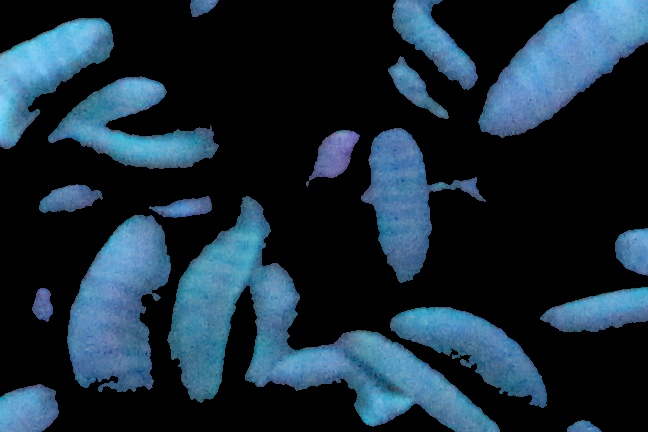larvae: (477, 1, 648, 136), (169, 210, 269, 401), (64, 217, 170, 393), (392, 299, 546, 406), (340, 333, 501, 432), (1, 16, 116, 150), (368, 129, 432, 282), (48, 79, 166, 147), (391, 4, 478, 86), (248, 267, 299, 386), (86, 127, 216, 170), (538, 291, 648, 331), (271, 344, 350, 384)
